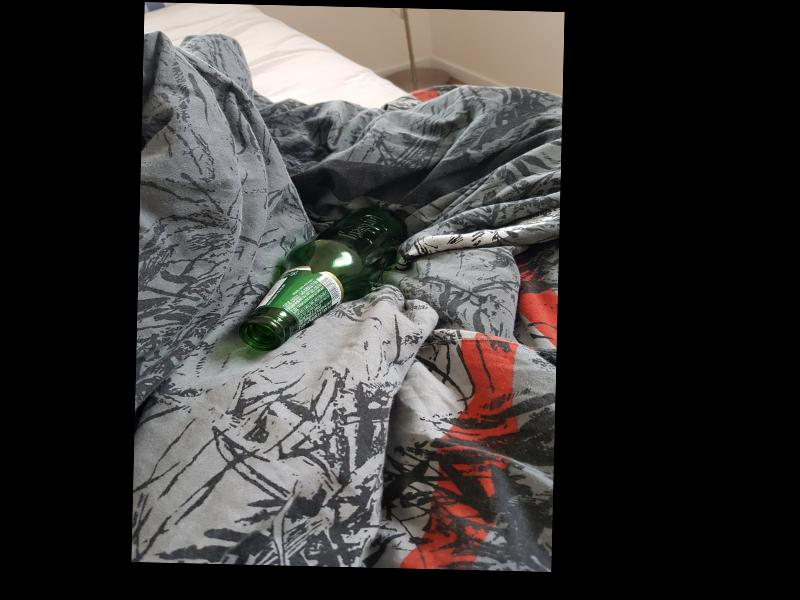Beer: (241, 204, 408, 354)
